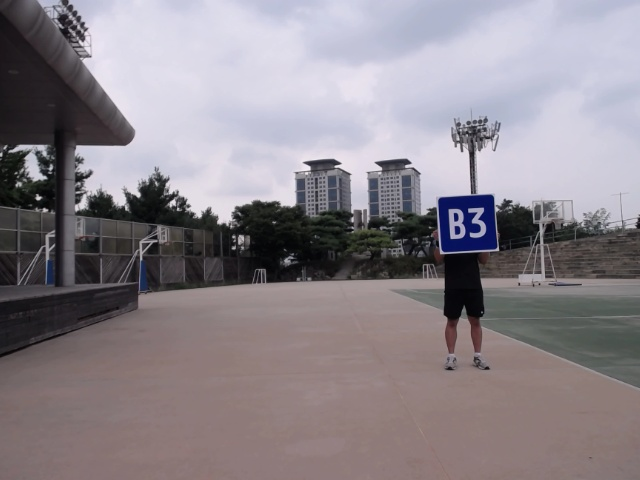delivery_b3: (434, 194, 501, 256)
